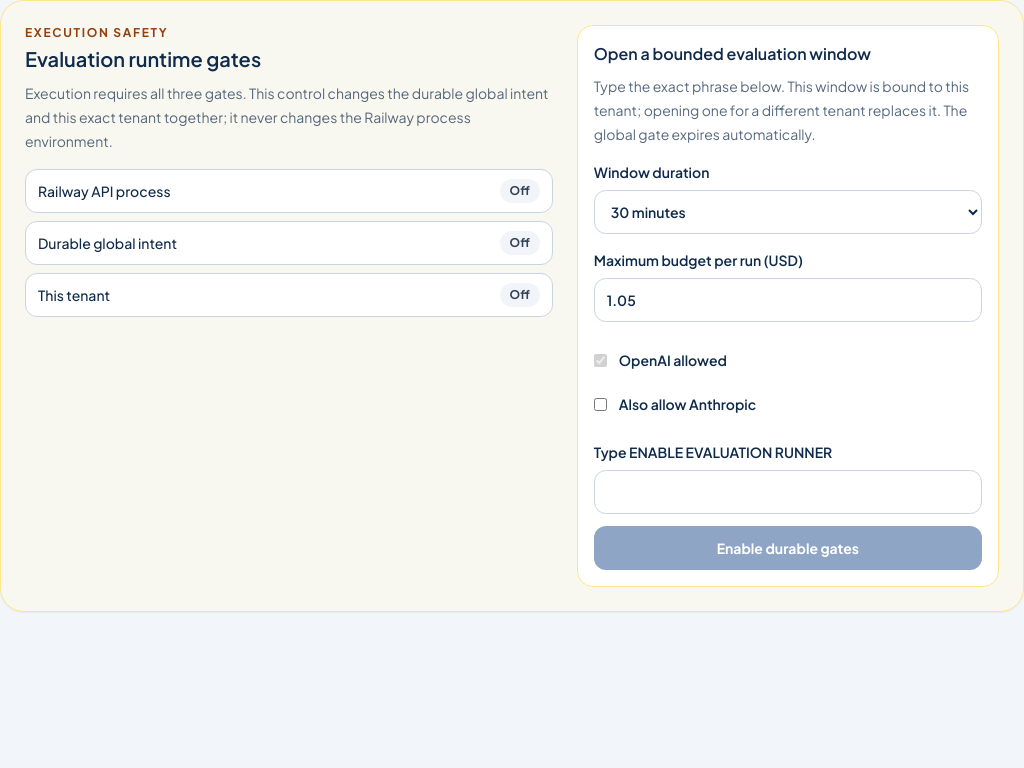
Test: EvaluationRuntimeGateControl › shows all three independent gates and requires the exact enable phrase
The width and height of the screenshot is (1024, 768).
Check: the text "Railway API process" is shown, box [38,181,171,201]
Check: the text "Durable global intent" is shown, box [38,233,177,253]
In the field labelled "Type ENABLE EVALUATION RUNNER": (788, 492) [594,470,982,514], type "ENABLE EVALUATION RUNNER"
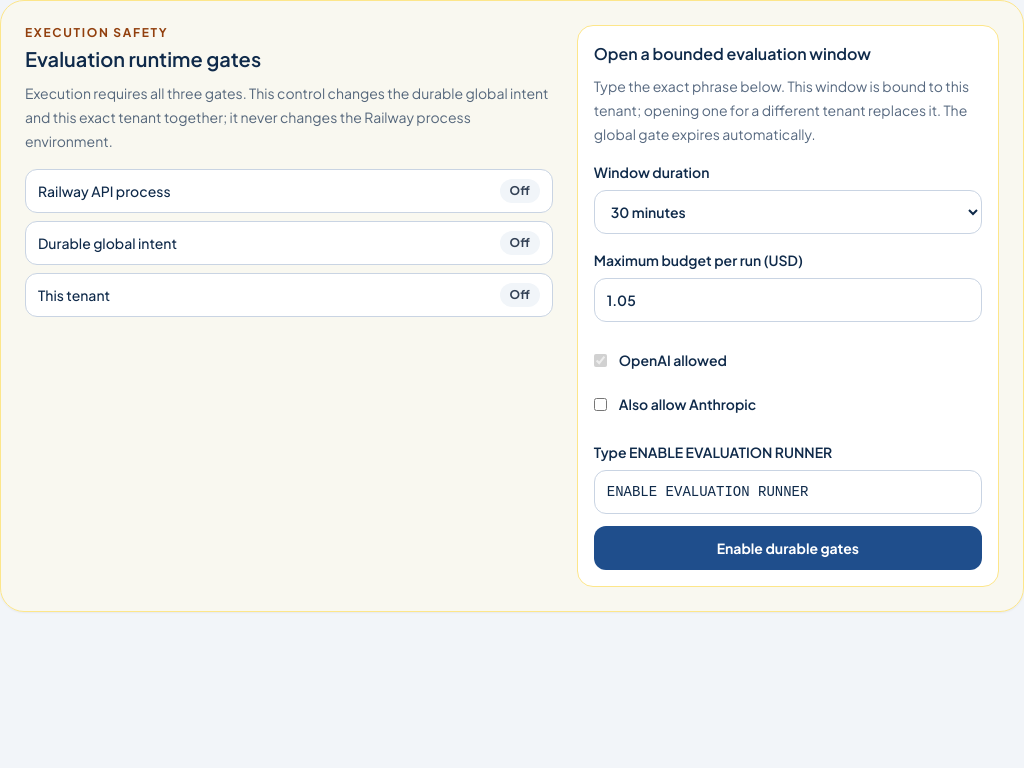
Check: the button "Enable durable gates" is enabled
Click the button "Enable durable gates": (788, 548) [594,526,982,570]
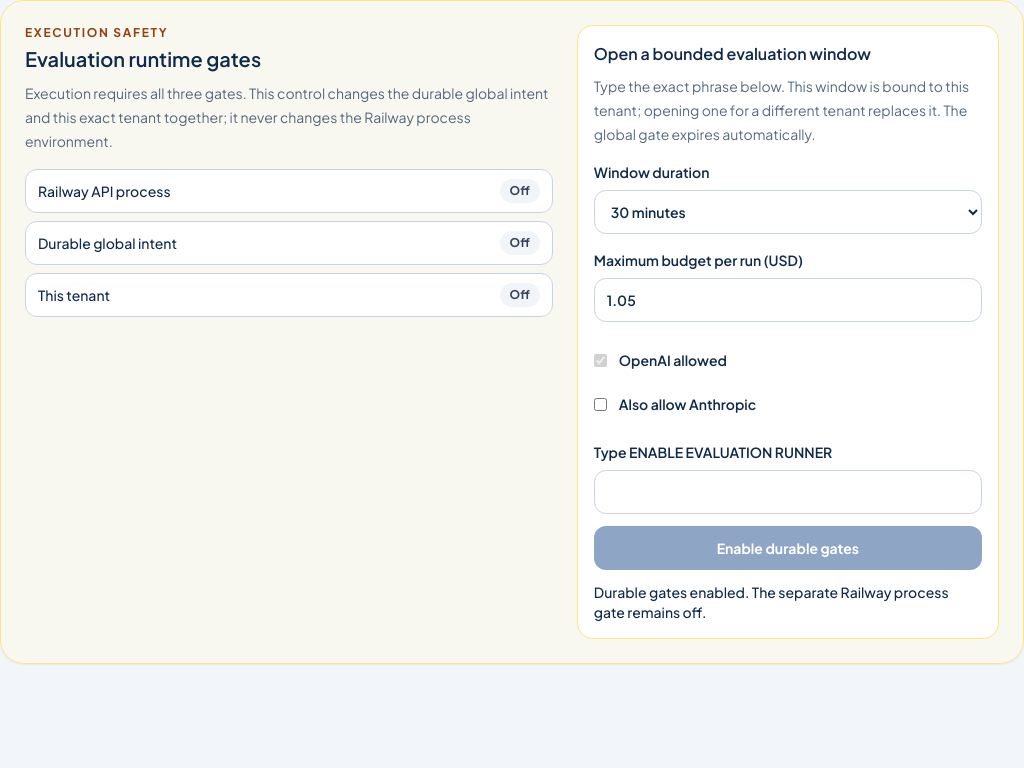
Check: the text "Durable gates enabled. The separate Railway process gate remains off." is shown, box [594,582,982,622]
